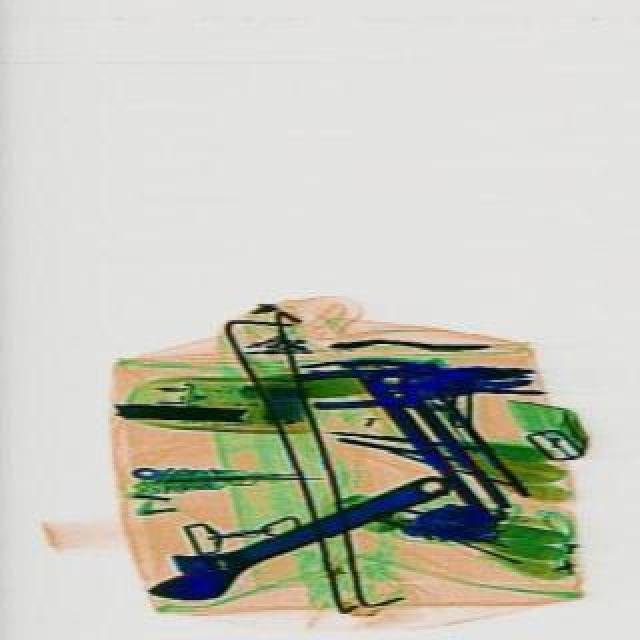scissors: (134, 454, 454, 618)
wrench: (300, 346, 532, 410)
